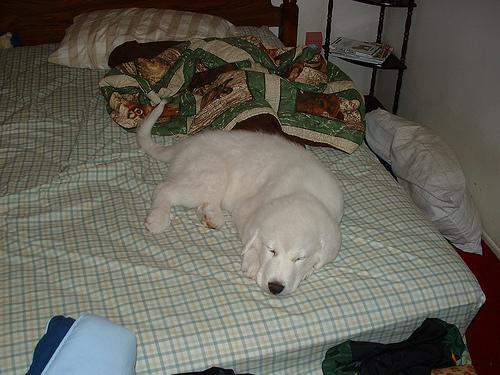Great_Pyrenees: (133, 100, 346, 297)
